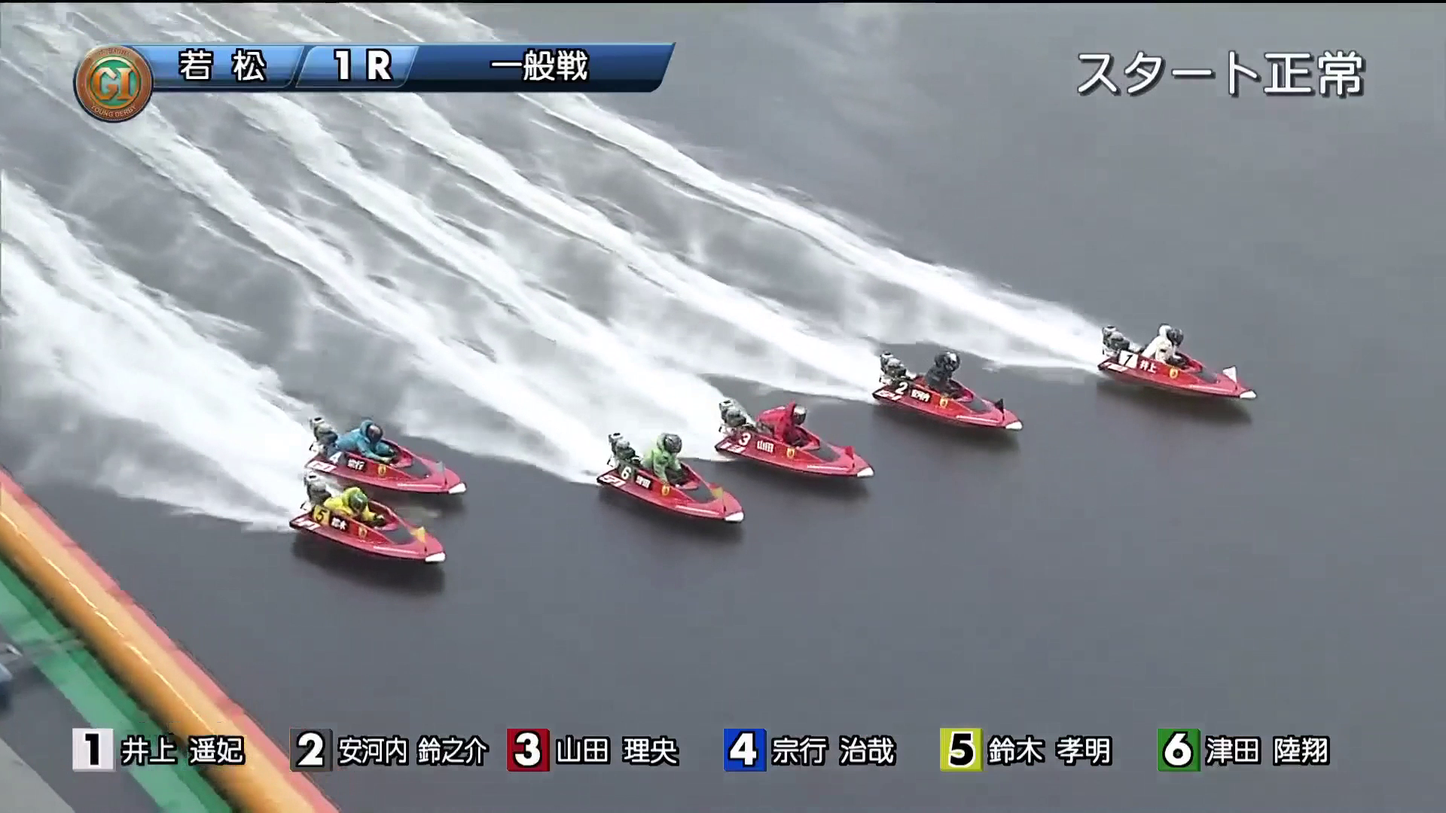１号艇: (1106, 344, 1240, 396)
２号艇: (882, 362, 1008, 420)
３号艇: (746, 425, 883, 467)
４号艇: (620, 457, 739, 521)
５号艇: (330, 434, 454, 489)
６号艇: (347, 521, 447, 578)
